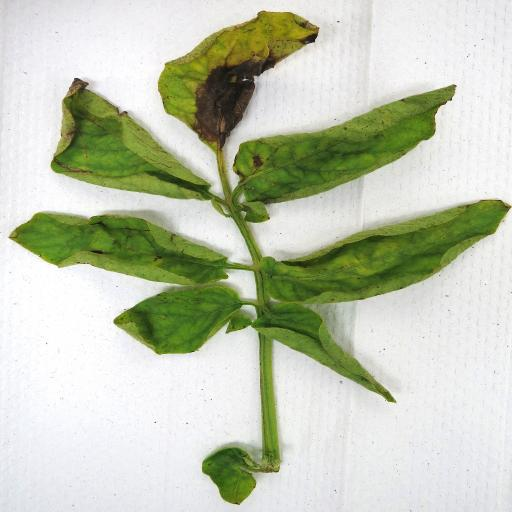Late Blight: (236, 82, 462, 210), (156, 6, 324, 158), (52, 76, 218, 203)
